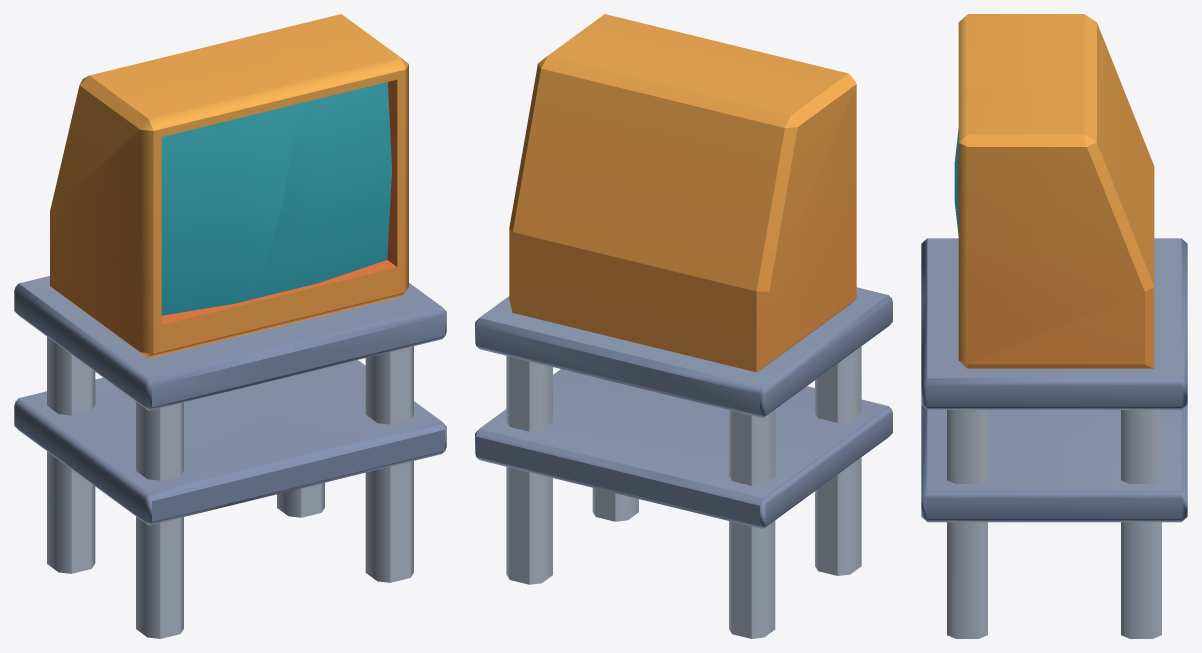
3 renders of one model, left to right at view 1: azimuth 30°, elevation 25°; view 2: azimuth 150°, elevation 25°; view 3: azimuth 270°, elevation 25°, orthographic. The views are drawn at different scales.
Parts seen in each view (by area): view 1: TV; view 2: TV; view 3: TV.
Boxes of the visible parts, x1=… form: TV: x1=14, y1=14, x2=446, y2=638; TV: x1=475, y1=14, x2=892, y2=638; TV: x1=921, y1=14, x2=1187, y2=638.
Size of the model in its own units: 66.55 by 108 by 52.
1 material, 1 textured.
